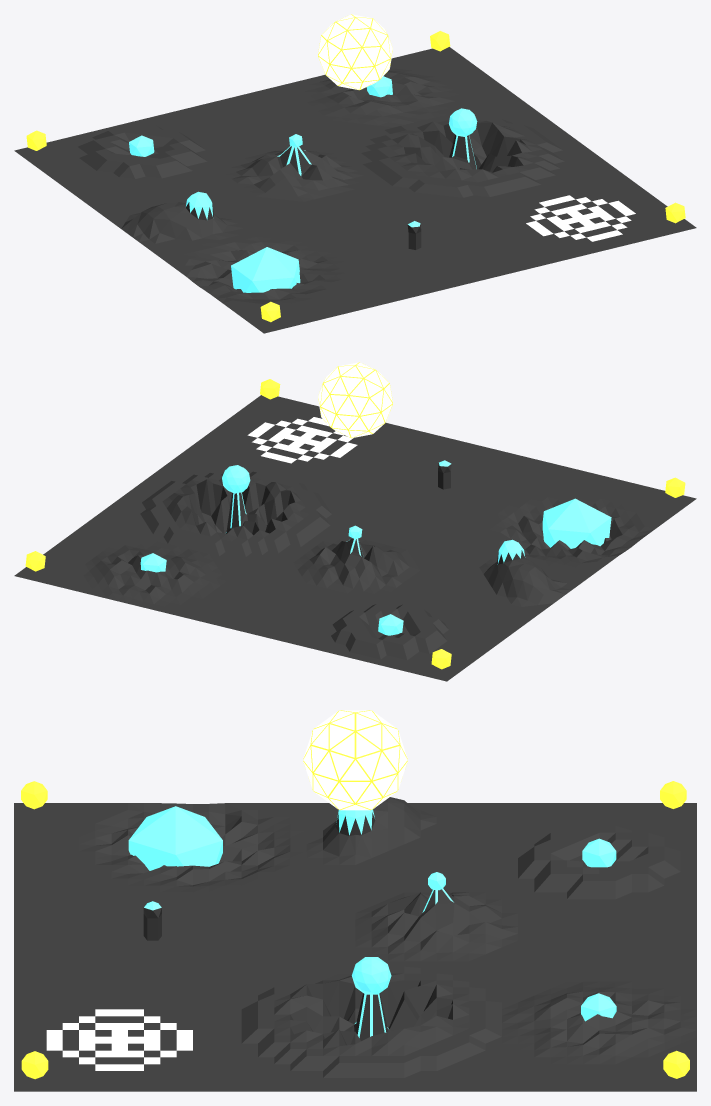
File: Level 5 - Ico world 2.gltf
The picture shows the model from 3 angles, top to bottom: view 1: azimuth 30°, elevation 25°; view 2: azimuth 150°, elevation 25°; view 3: azimuth 270°, elevation 25°; orthographic projection. The views are drawn at different scales.
Visible parts, largest first — view 1: Ground, Icosphere sun, Icosphere meteor, Icosphere phar; view 2: Ground, Icosphere sun, Icosphere meteor, Icosphere phar; view 3: Ground, Icosphere sun, Icosphere meteor, Icosphere phar, Icosphere meteor 2, Icosphere phar 3, Icosphere guard 4, Icosphere guard 2, Icosphere guard, Icosphere guard 3.
Boxes of the visible parts, x1,y1,x2,y2 form: Ground: (14, 47, 696, 333); Icosphere sun: (318, 14, 392, 90); Icosphere meteor: (231, 247, 300, 292); Icosphere phar: (449, 108, 477, 136); Ground: (14, 395, 696, 681); Icosphere sun: (318, 362, 392, 438); Icosphere meteor: (542, 498, 611, 548); Icosphere phar: (222, 465, 250, 493); Ground: (14, 797, 696, 1091); Icosphere sun: (303, 710, 407, 810); Icosphere meteor: (128, 806, 222, 870); Icosphere phar: (351, 957, 391, 994); Icosphere meteor 2: (582, 838, 616, 867); Icosphere phar 3: (581, 993, 616, 1021); Icosphere guard 4: (21, 1051, 48, 1079); Icosphere guard 2: (21, 781, 47, 809); Icosphere guard: (660, 781, 686, 808); Icosphere guard 3: (663, 1050, 689, 1078).
Size of the model in its own units: 97.49 by 46.74 by 97.49.
